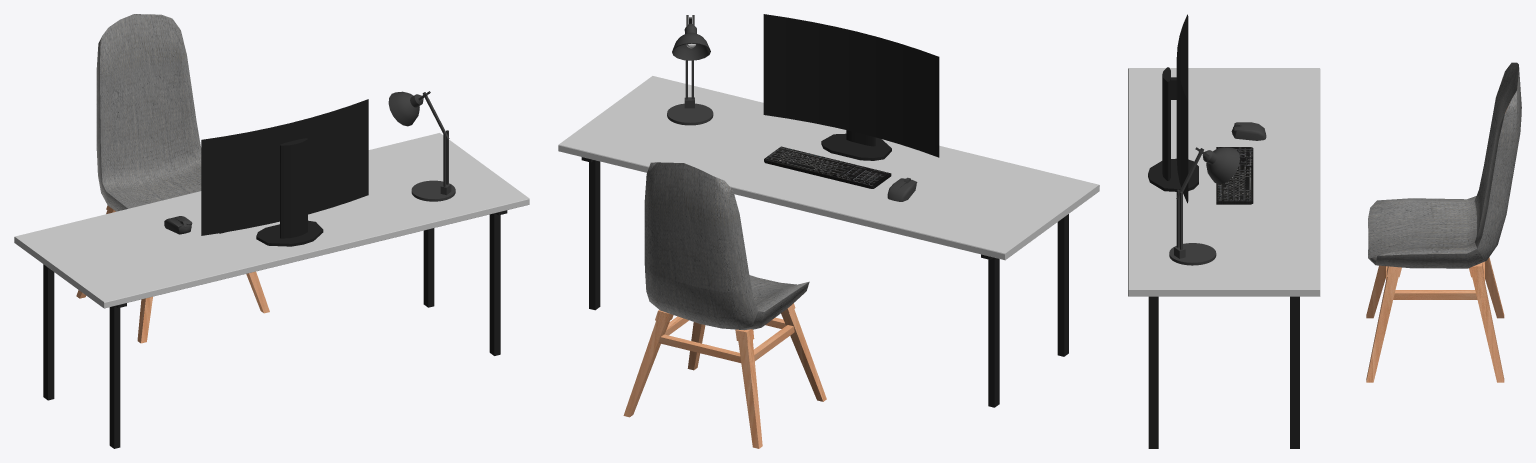
File: FUR0210030.fbx
3 renders of one model, left to right at view 1: azimuth 30°, elevation 25°; view 2: azimuth 150°, elevation 25°; view 3: azimuth 270°, elevation 25°, orthographic. The views are drawn at different scales.
Parts seen in each view (by area): view 1: smFUR0210030; view 2: smFUR0210030; view 3: smFUR0210030.
Boxes of the visible parts, <box> form: smFUR0210030: <box>14,14,529,448</box>; smFUR0210030: <box>558,14,1099,448</box>; smFUR0210030: <box>1128,14,1521,448</box>.
Bounding box in the file's own units: 235 × 142 × 176.
1 material, 1 textured.
